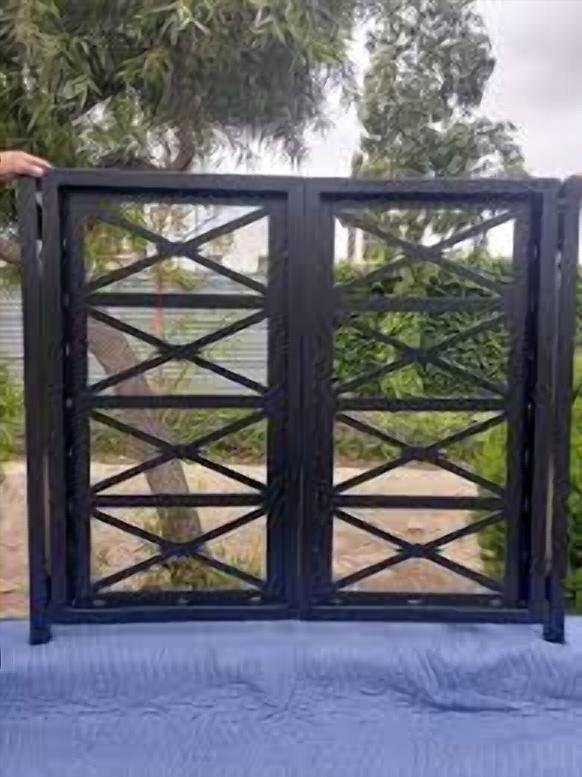Gate: (42, 166, 540, 625)
